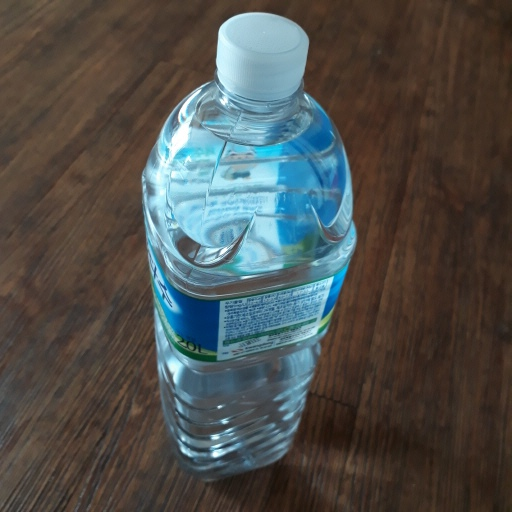Plastic_0: (137, 10, 359, 481)
